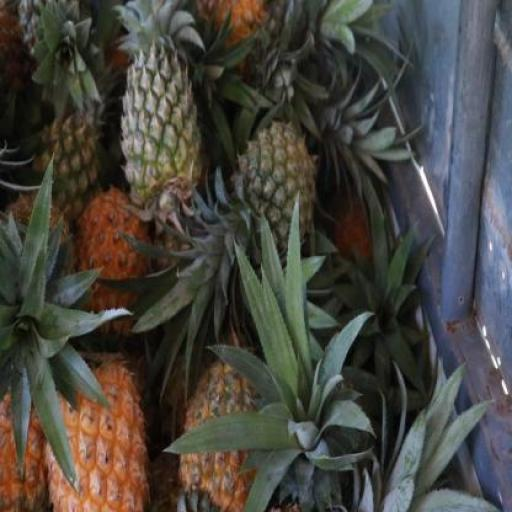Pineapple - v8 v1: (42, 349, 145, 511)
